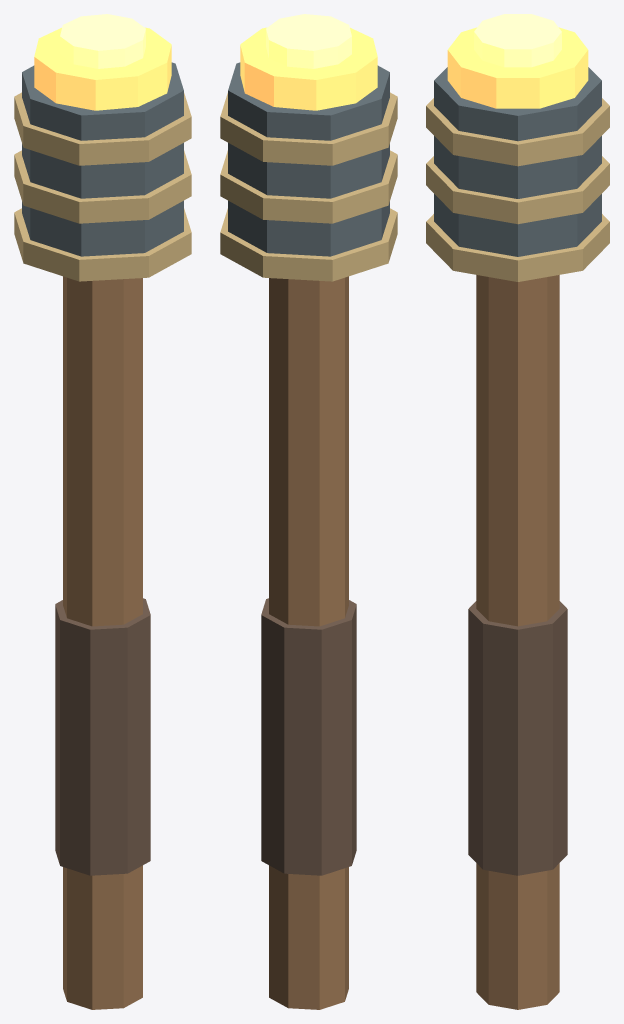
Rendered from Torch.glb.
The picture shows the model from 3 angles, left to right: view 1: azimuth 30°, elevation 25°; view 2: azimuth 150°, elevation 25°; view 3: azimuth 270°, elevation 25°; orthographic projection.
Parts seen in each view (by area): view 1: StaticMesh.002, FlameGlow; view 2: StaticMesh.002, FlameGlow; view 3: StaticMesh.002, FlameGlow.
Part boxes in pixels (<box>): StaticMesh.002: <box>14,62,191,1009</box>; FlameGlow: <box>34,14,171,110</box>; StaticMesh.002: <box>220,62,397,1009</box>; FlameGlow: <box>240,14,377,110</box>; StaticMesh.002: <box>426,67,609,1009</box>; FlameGlow: <box>447,14,588,108</box>.
Bounding box in the file's own units: 0.23 × 1.33 × 0.23.
